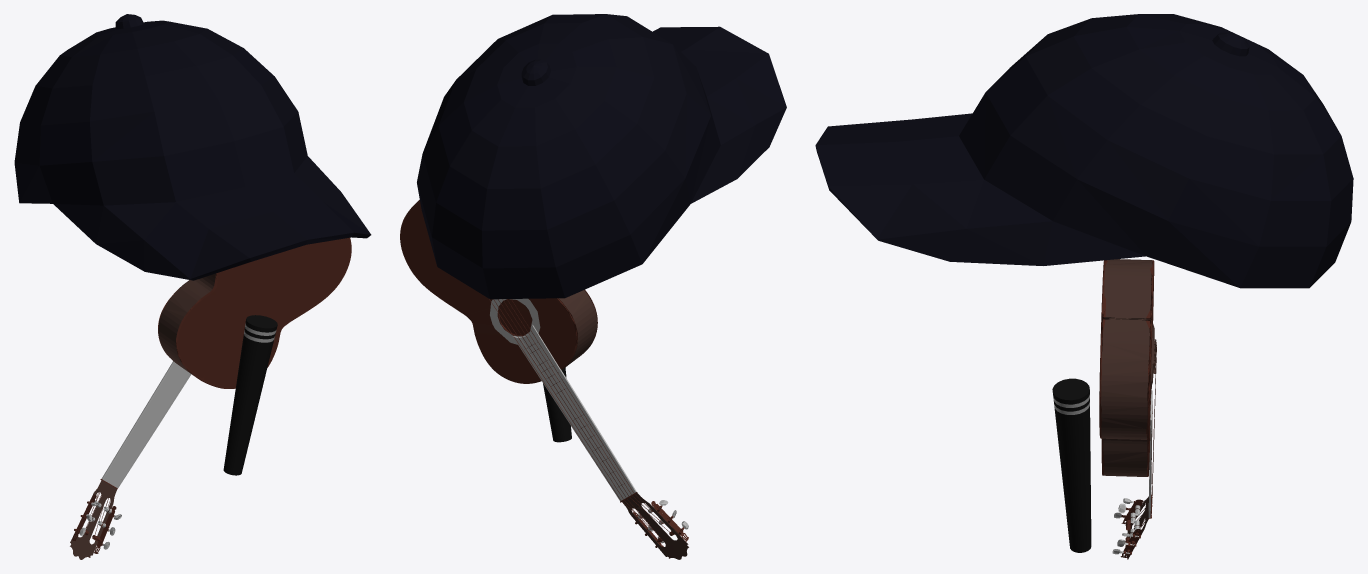
File: Workart1Details.dae
3 views of the same model, side by side, from view 1: azimuth 30°, elevation 25°; view 2: azimuth 150°, elevation 25°; view 3: azimuth 270°, elevation 25° (orthographic). The views are drawn at different scales.
Parts seen in each view (by area): view 1: Hat, Guitar, Mic; view 2: Hat, Guitar, Mic; view 3: Hat, Guitar, Mic.
Boxes of the visible parts, <box> form: Hat: <box>14,14,371,280</box>; Guitar: <box>70,237,351,559</box>; Mic: <box>223,315,277,475</box>; Hat: <box>417,14,786,299</box>; Guitar: <box>400,200,688,559</box>; Mic: <box>543,367,571,442</box>; Hat: <box>815,14,1353,288</box>; Guitar: <box>1099,259,1156,559</box>; Mic: <box>1052,378,1091,552</box>.
Bounding box in the file's own units: 0.0772 × 0.1292 × 0.1085.
